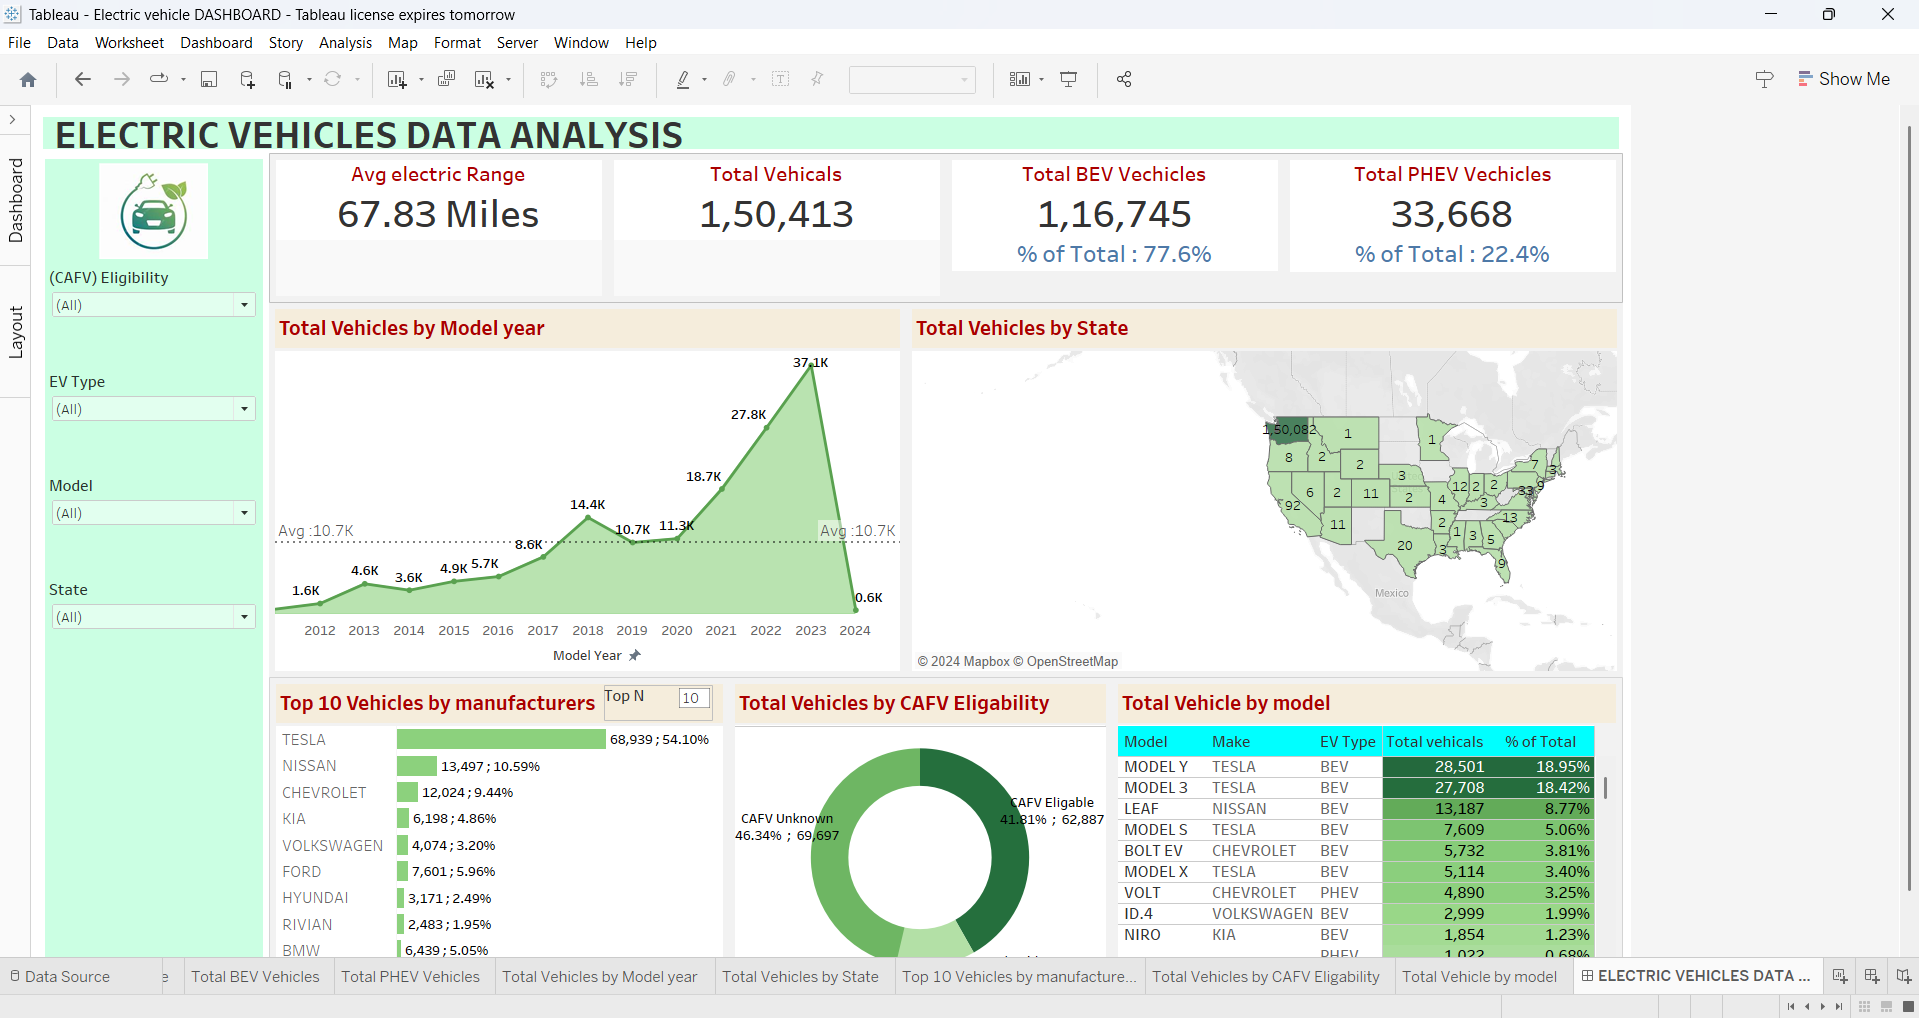

This screenshot's page, from the dashboard's own definition file:
{"tool":"tableau","page":{"name":"ELECTRIC VEHICLES DATA ANALYSIS","canvas":[1600,900],"ordinal":0},"visuals":[{"type":"title","box":[8,8,1584,40]},{"type":"worksheet","title":"Average electric range","mark":"Automatic","box":[239,49,338,148]},{"type":"worksheet","title":"total vehicles","mark":"Automatic","box":[577,49,338,148]},{"type":"worksheet","title":"Total BEV Vehicles","mark":"Automatic","box":[915,49,338,148]},{"type":"worksheet","title":"Total PHEV Vehicles","mark":"Automatic","box":[1253,49,338,148]},{"type":"image","param":"C:/Users/Akash/Downloads/th (1).jpg","box":[14,54,218,104]},{"type":"filter","title":"Total Vehicles by Model year","param":"[federated.02mfesi1ixmcu01g86ite16he19b].[none:Clean Alternative Fuel Vehicle (C","box":[14,158,218,104]},{"type":"worksheet","title":"Total Vehicles by Model year","mark":"Area","rows":["Calculation_1431018805968846848","Calculation_1431018805968846848"],"cols":["Model Year"],"box":[238,198,637,374]},{"type":"worksheet","title":"Total Vehicles by State","mark":"Multipolygon","box":[875,198,717,374]},{"type":"filter","title":"Total Vehicles by Model year","param":"[federated.02mfesi1ixmcu01g86ite16he19b].[none:Electric Vehicle Type:nk]","box":[14,262,218,104]},{"type":"filter","title":"Total Vehicles by Model year","param":"[federated.02mfesi1ixmcu01g86ite16he19b].[none:Model:nk]","box":[14,366,218,104]},{"type":"filter","title":"Total Vehicles by Model year","param":"[federated.02mfesi1ixmcu01g86ite16he19b].[none:State:nk]","box":[14,470,218,104]},{"type":"worksheet","title":"Top 10 Vehicles by manufacturers","mark":"Automatic","rows":["Make"],"cols":["Calculation_1431018805974941698"],"box":[239,573,459,318]},{"type":"worksheet","title":"Total Vehicles by CAFV Eligability","mark":"Pie","rows":["Calculation_1431018806068264967","Calculation_1431018806068264967"],"box":[698,573,383,318]},{"type":"worksheet","title":"Total Vehicle by model","mark":"Square","rows":["Model","Make","Electric Vehicle Type"],"box":[1081,573,510,318]},{"type":"blank","box":[14,574,218,104]},{"type":"parameter","param":"[Parameters].[Parameter 1]","box":[573,580,109,36]},{"type":"blank","box":[14,678,218,104]},{"type":"blank","box":[14,782,218,104]}]}

Visuals, with their boxes on the page's 1600x900 design canvas (x1, y1, x2, y2). These are canvas units, not pixel positions in the 1919x1018 screenshot, which may show the page scaled, cropped or inside an application window:
title: Rect(8, 8, 1592, 48)
"Average electric range" worksheet: Rect(239, 49, 577, 197)
"total vehicles" worksheet: Rect(577, 49, 915, 197)
"Total BEV Vehicles" worksheet: Rect(915, 49, 1253, 197)
"Total PHEV Vehicles" worksheet: Rect(1253, 49, 1591, 197)
image: Rect(14, 54, 232, 158)
"Total Vehicles by Model year" filter: Rect(14, 158, 232, 262)
"Total Vehicles by Model year" worksheet (Area marks): Rect(238, 198, 875, 572)
"Total Vehicles by State" worksheet (Multipolygon marks): Rect(875, 198, 1592, 572)
"Total Vehicles by Model year" filter: Rect(14, 262, 232, 366)
"Total Vehicles by Model year" filter: Rect(14, 366, 232, 470)
"Total Vehicles by Model year" filter: Rect(14, 470, 232, 574)
"Top 10 Vehicles by manufacturers" worksheet: Rect(239, 573, 698, 891)
"Total Vehicles by CAFV Eligability" worksheet (Pie marks): Rect(698, 573, 1081, 891)
"Total Vehicle by model" worksheet (Square marks): Rect(1081, 573, 1591, 891)
blank: Rect(14, 574, 232, 678)
parameter: Rect(573, 580, 682, 616)
blank: Rect(14, 678, 232, 782)
blank: Rect(14, 782, 232, 886)
